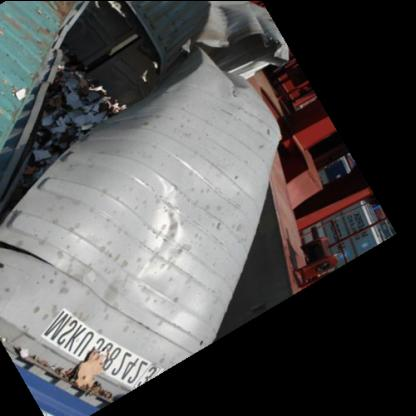Damage: (26, 21, 168, 196)
